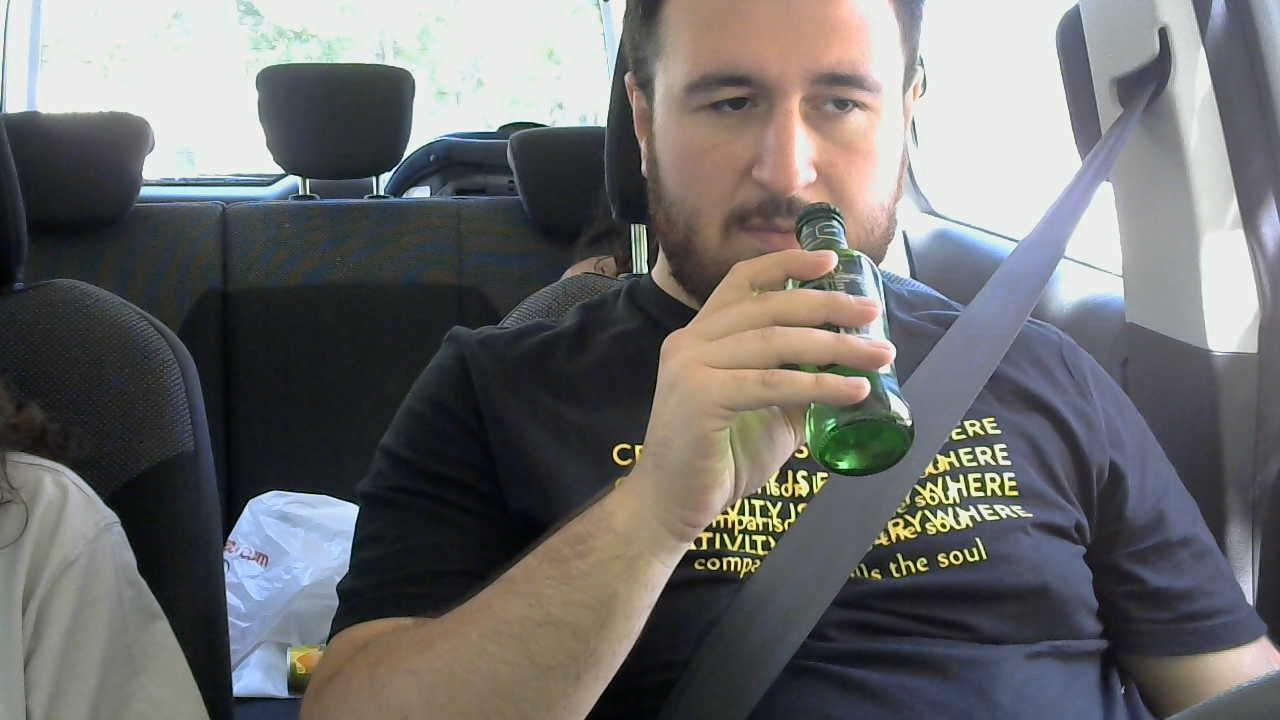Drinking: (620, 1, 913, 479)
